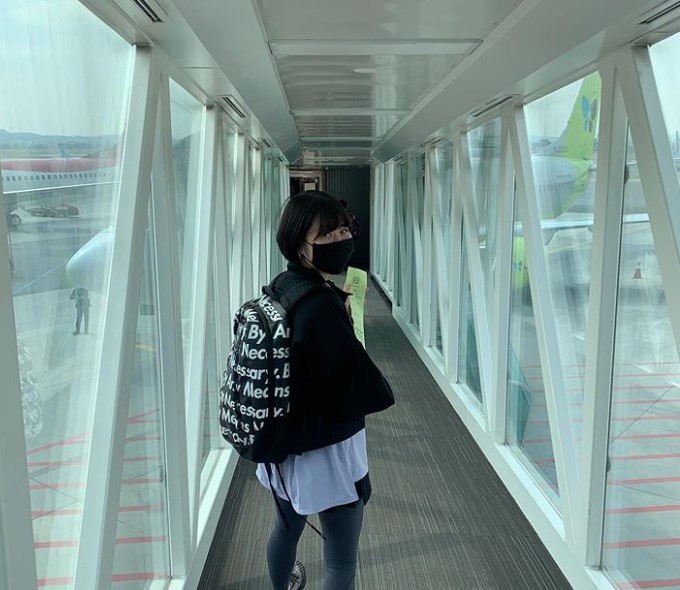face_with_mask: (278, 188, 362, 278)
